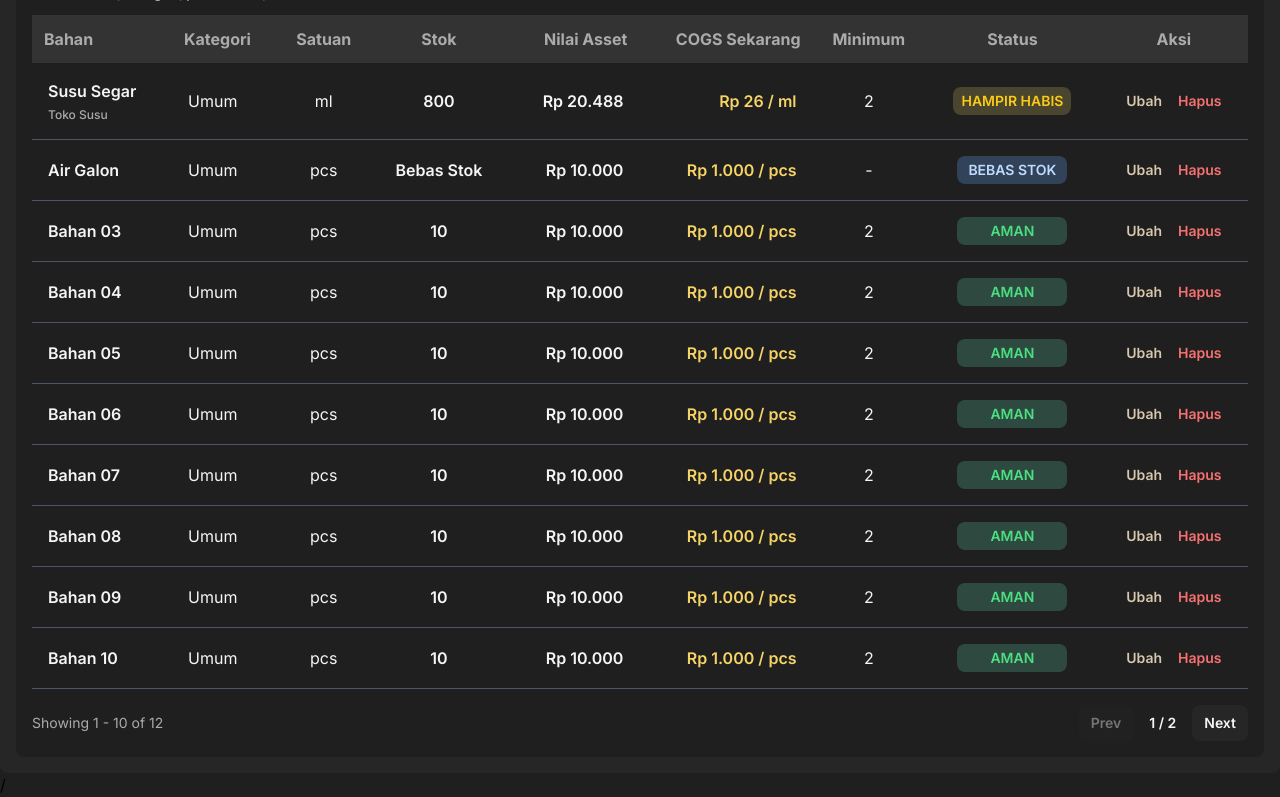
Scenario: stock management › lists stock with status, value and cost per unit, paginated and searchable
This screenshot has width=1280, height=797.
(page scrolled)
Expected: the row that starts with "Susu Segar" shows "Toko Susu", [48,107,108,122]
Expected: the row that starts with "Susu Segar" shows "Rp 20.488", [543,91,623,111]
Click the button "Next" at [1220, 723], box [1192,705,1248,741]
(page scrolled)
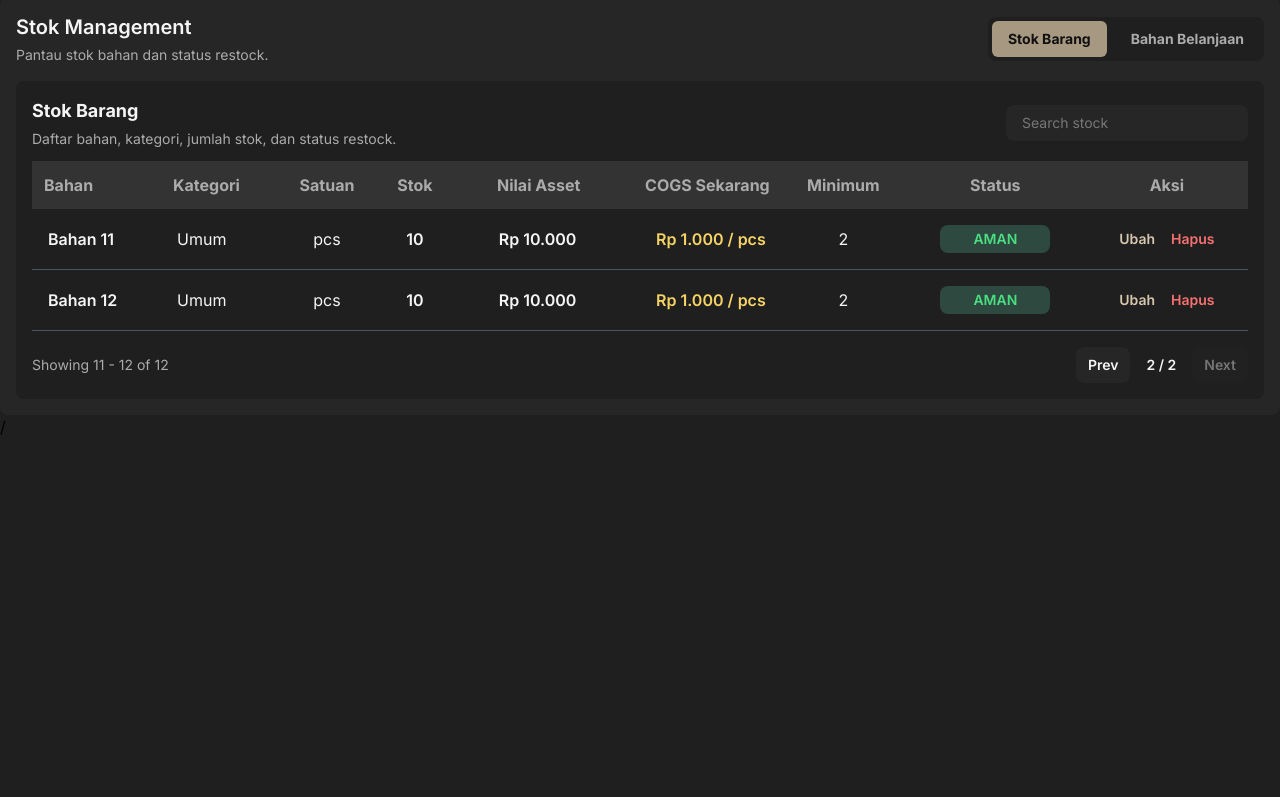
Now the text "Showing 11 - 12 of 12" is shown, box [32,355,169,375]
Type "toko susu" into the search field with placeholder "Search stock" at [1127, 123], box [1006,105,1248,141]
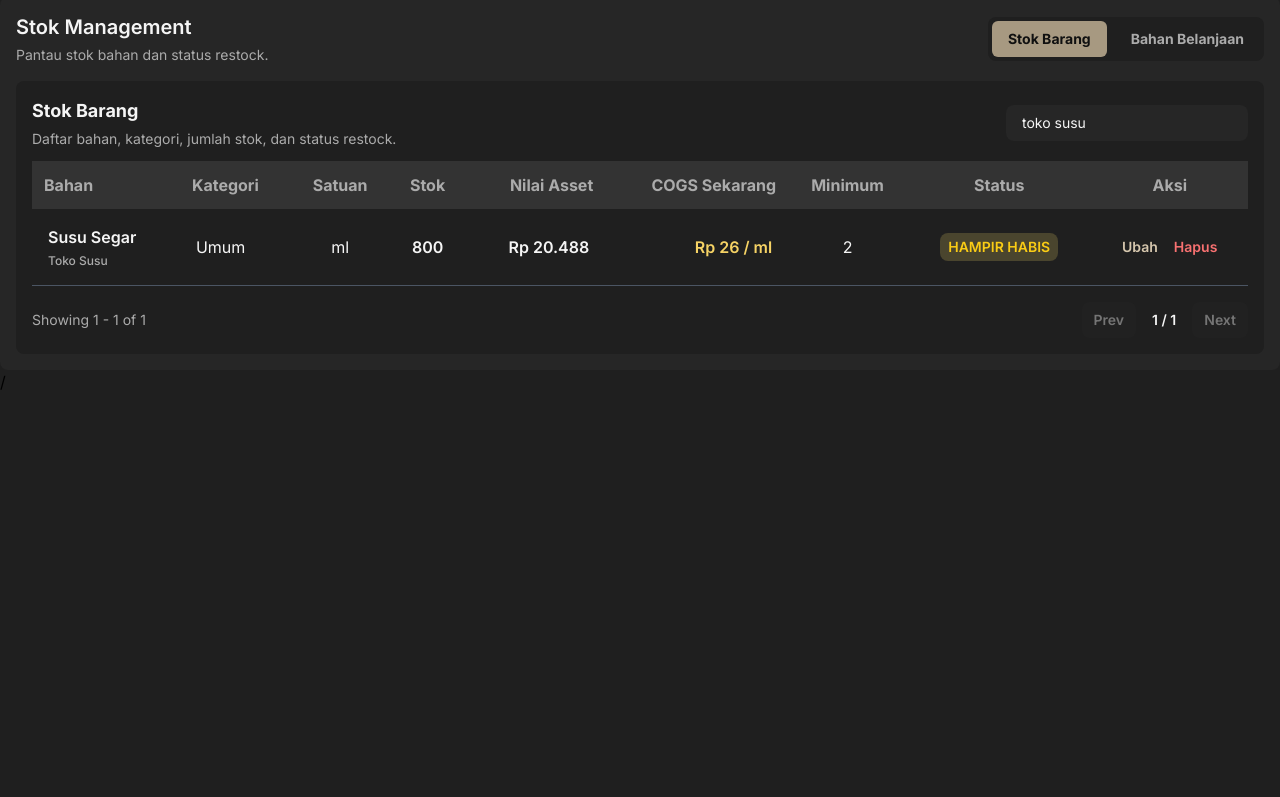
Now the text "Showing 1 - 1 of 1" is shown, box [32,310,146,330]
Replace the text in the search field with placeholder "Search stock" with "zzz" at [1127, 123], box [1006,105,1248,141]
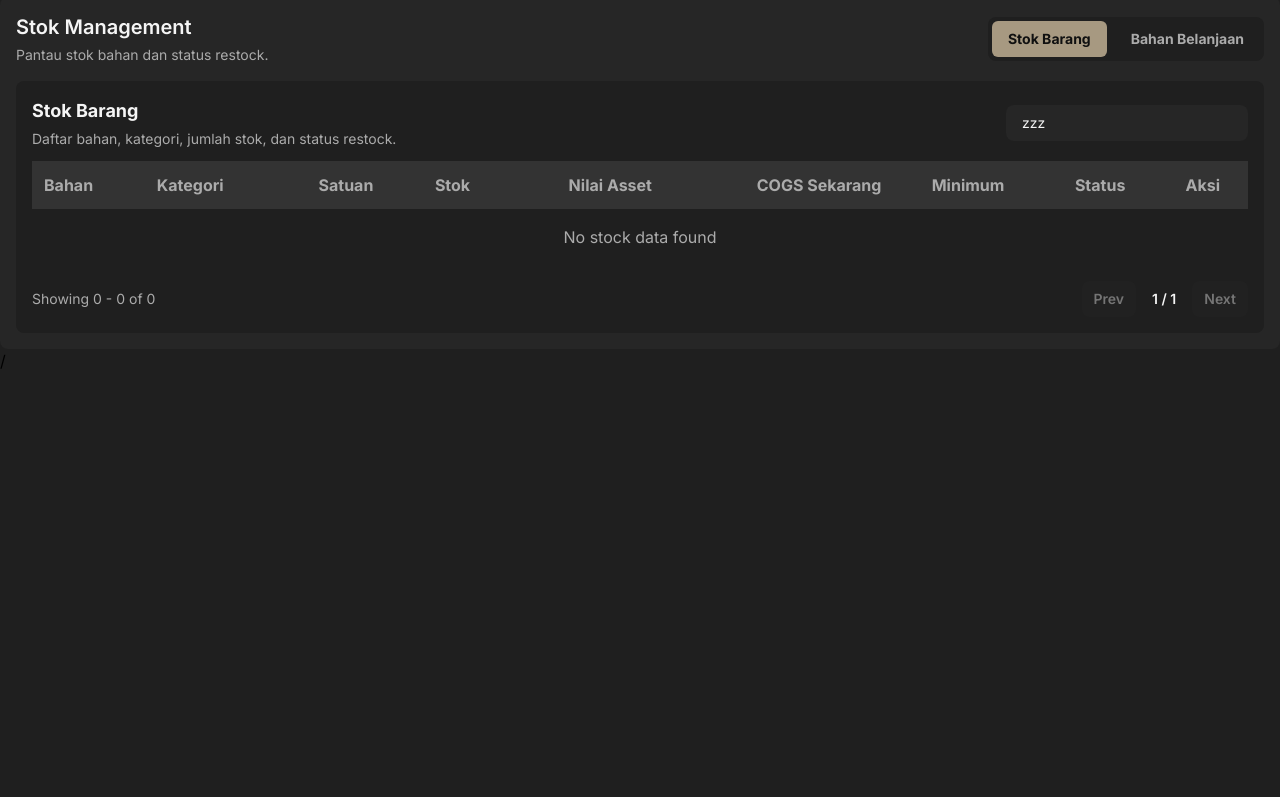
Now the text "No stock data found" is shown, box [32,209,1248,265]
